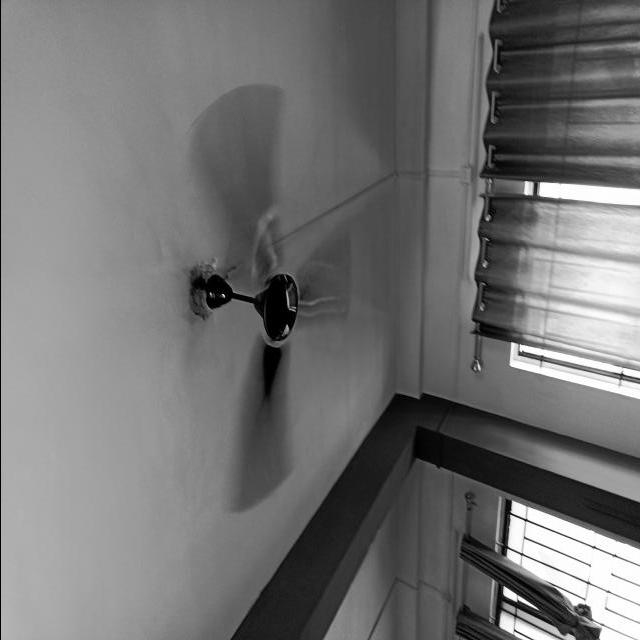fan: (180, 83, 395, 514)
